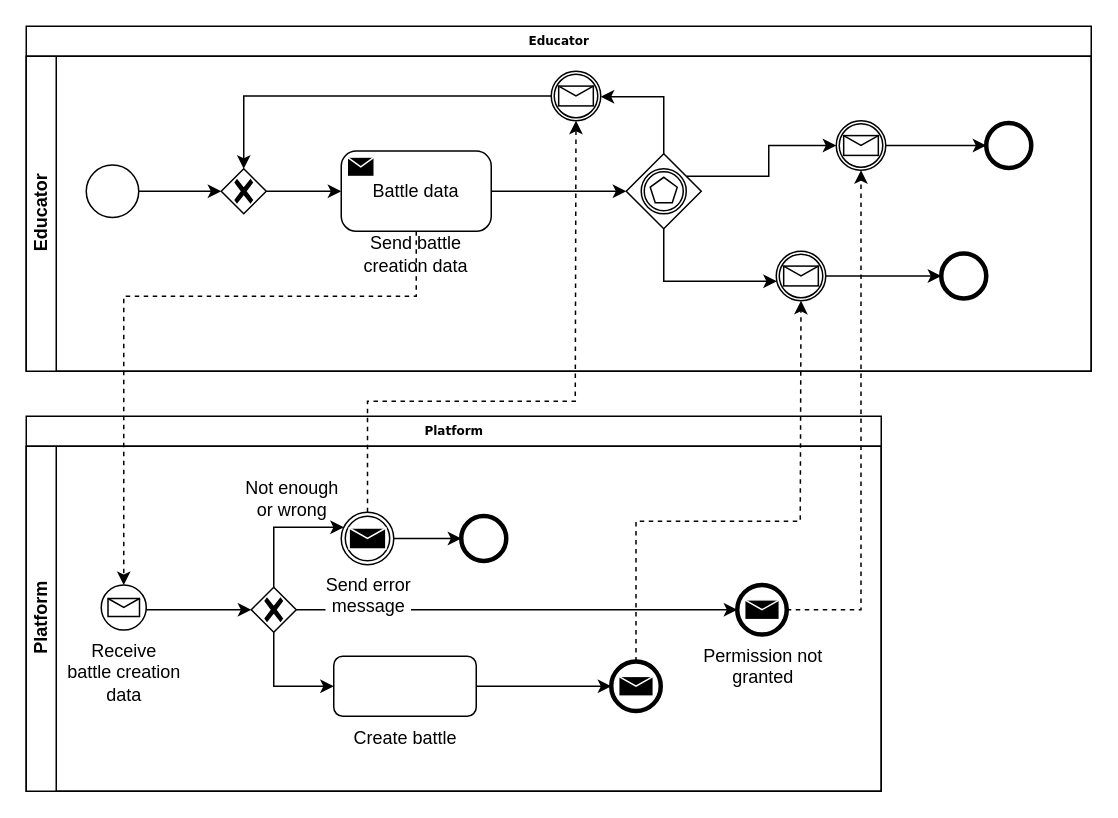
Image size: 1118x818. Some labels were removed from this diagram. The shapes that lost their labels are listed below. From the top down, each one's box as (x1, y1, x2, y2) in pixels, then its label:
(550, 70, 601, 121): Receive error message
(835, 119, 886, 170): Receive permission not granted message
(775, 250, 826, 301): Receive confirmation message
(610, 660, 661, 711): Send confirmation message
